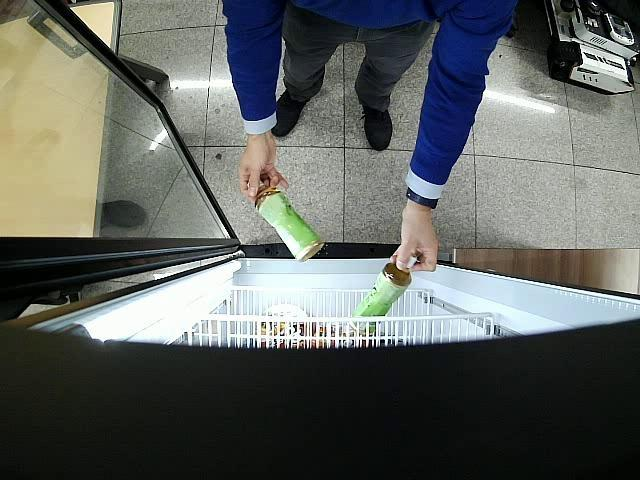19_17cha: (247, 180, 324, 262), (349, 256, 416, 334)
